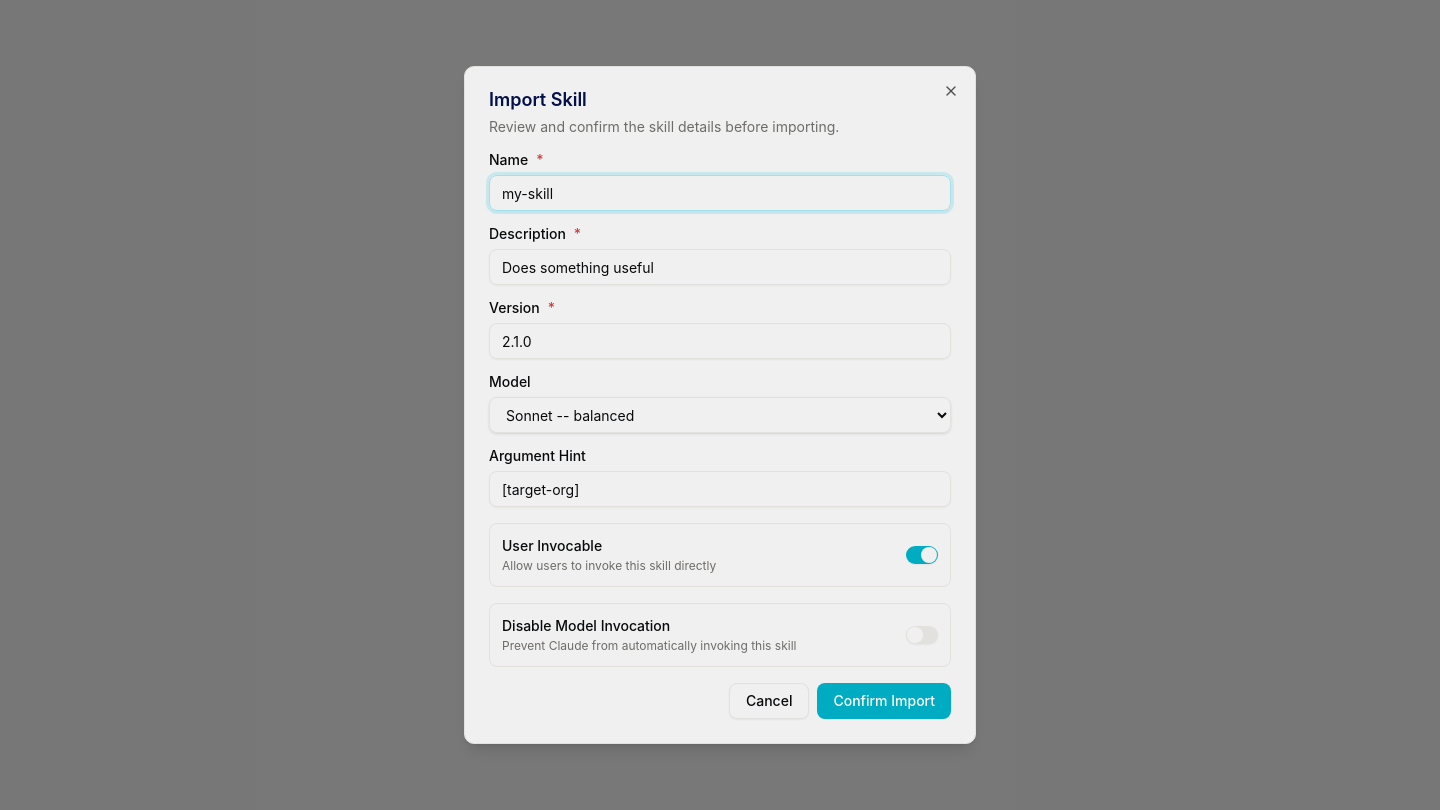
Test case: ImportSkillDialog › conflict_no_overwrite error › shows inline error below Name field when importSkillFromFile rejects with conflict_no_overwrite
The width and height of the screenshot is (1440, 810).
Click the button "Confirm Import". click: point(884, 701)
box: top-left (817, 683), bottom-right (951, 719)
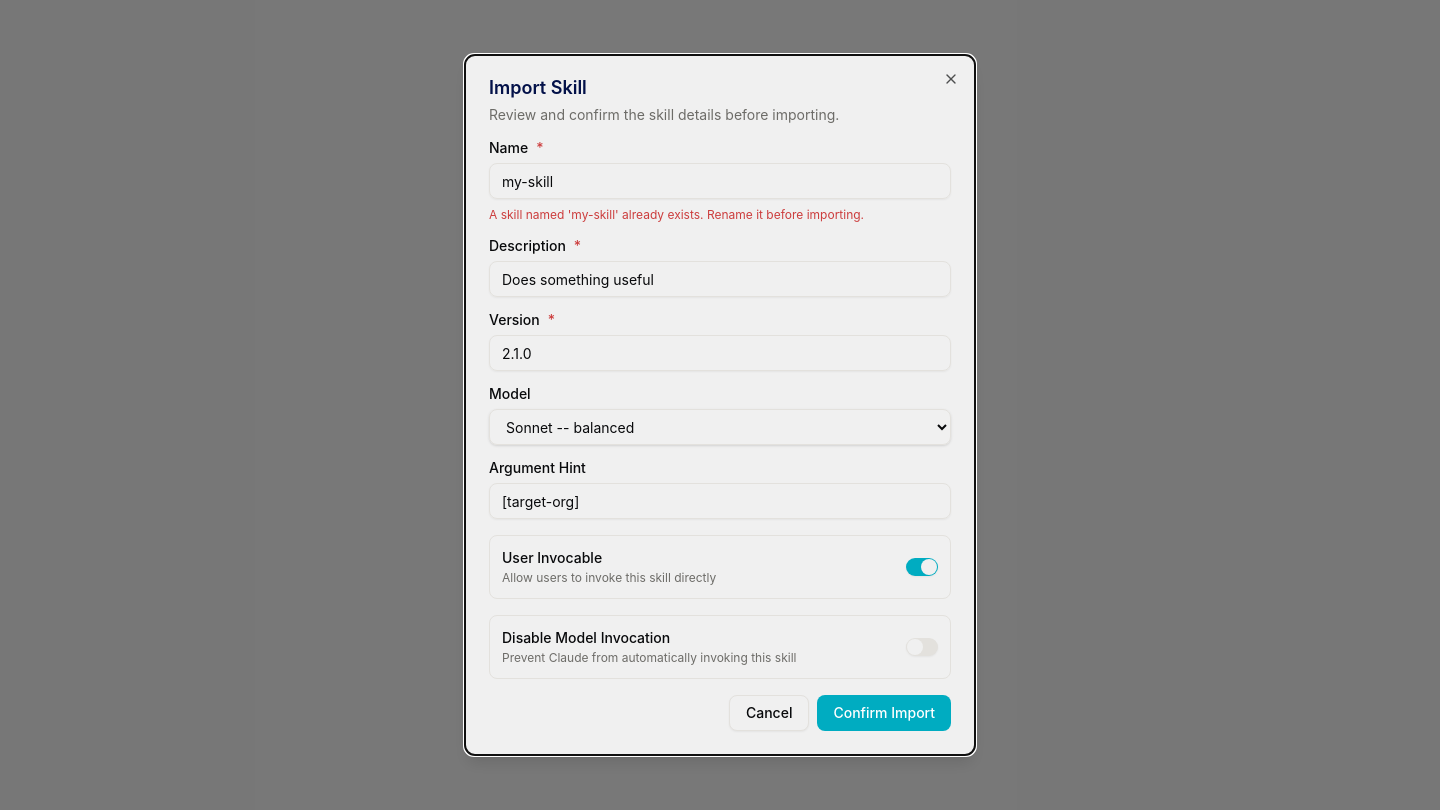
Now the text "A skill named 'my-skill' already exists" is shown, box top-left (489, 207), bottom-right (864, 222)
